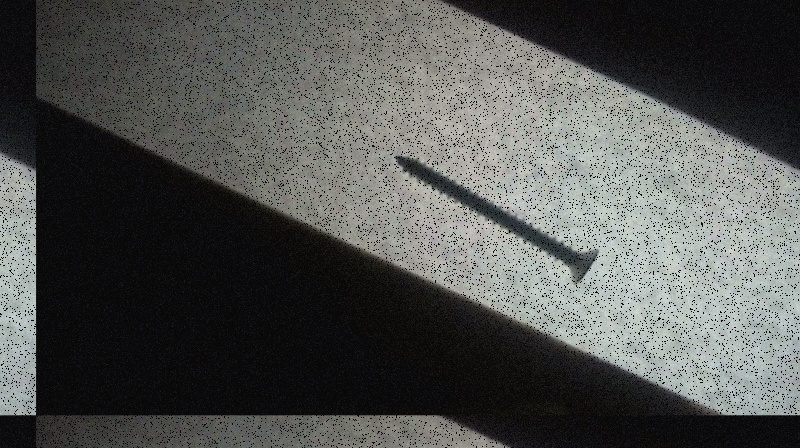S002: (390, 152, 602, 286)
